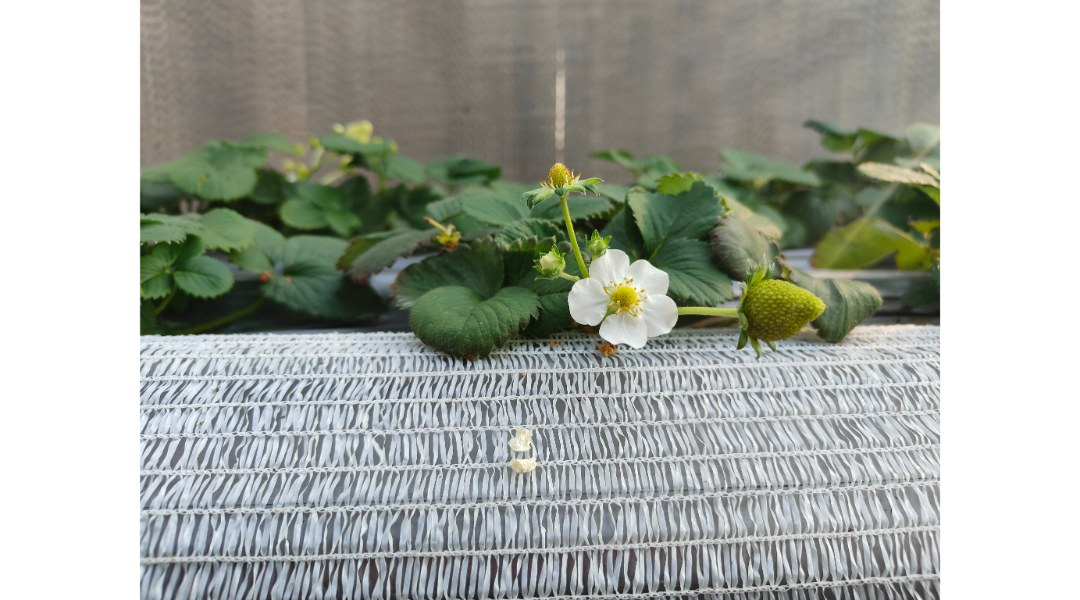berry: (727, 260, 846, 345), (521, 159, 609, 200), (525, 237, 564, 272)
flower: (568, 246, 678, 353)
strain: (556, 200, 592, 277), (673, 300, 743, 319)
